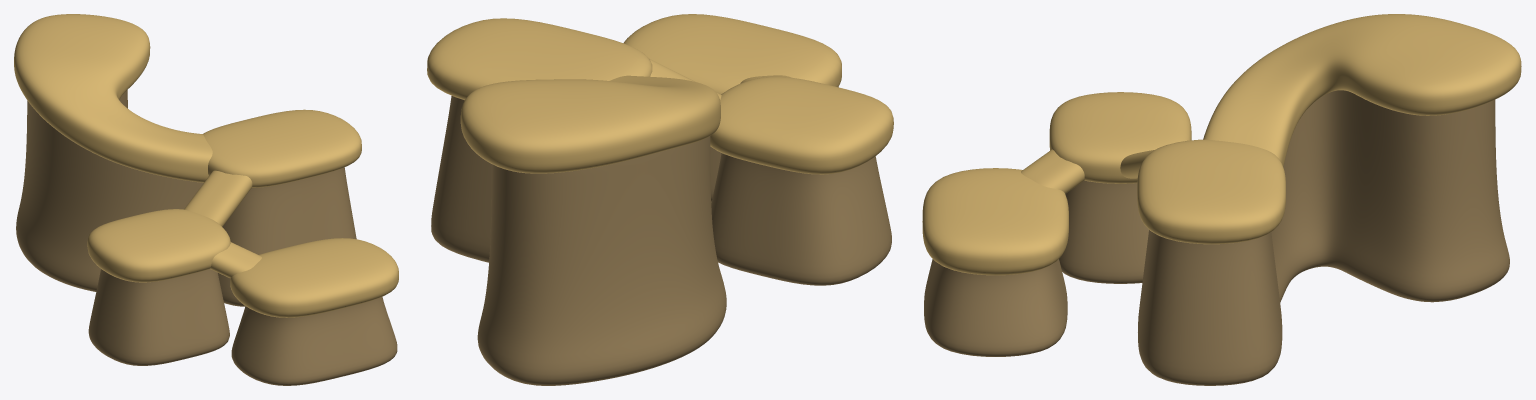
Rendered from Map_Ver2_00.fbx.
The picture shows the model from 3 angles, left to right: view 1: azimuth 30°, elevation 25°; view 2: azimuth 150°, elevation 25°; view 3: azimuth 270°, elevation 25°; orthographic projection. The views are drawn at different scales.
Parts seen in each view (by area): view 1: Map_land_1_Field_Top, Map_land_1_Field_BT, Map_land_3_Butter_BT, Map_land_04_Pan_BT, Map_land_04_Pan_Top, Map_land_2_Cutter_Top, Map_land_2_Cutter_BT, Map_land_3_Butter_Top, Map_land_02_3_Bridge, Map_land_03_4_Bridge; view 2: Map_land_1_Field_BT, Map_land_1_Field_Top, Map_land_3_Butter_BT, Map_land_3_Butter_Top, Map_land_2_Cutter_Top, Map_land_04_Pan_Top, Map_land_2_Cutter_BT, Map_land_02_3_Bridge; view 3: Map_land_1_Field_BT, Map_land_1_Field_Top, Map_land_2_Cutter_BT, Map_land_2_Cutter_Top, Map_land_04_Pan_Top, Map_land_04_Pan_BT, Map_land_3_Butter_Top, Map_land_3_Butter_BT, Map_land_03_4_Bridge, Map_land_02_3_Bridge.
Boxes of the visible parts, left/top/right/bottom form: Map_land_1_Field_Top: left=14, top=14, right=212, bottom=182; Map_land_1_Field_BT: left=16, top=90, right=203, bottom=291; Map_land_3_Butter_BT: left=88, top=269, right=229, bottom=365; Map_land_04_Pan_BT: left=231, top=296, right=397, bottom=385; Map_land_04_Pan_Top: left=230, top=238, right=398, bottom=317; Map_land_2_Cutter_Top: left=203, top=109, right=361, bottom=187; Map_land_2_Cutter_BT: left=218, top=167, right=356, bottom=306; Map_land_3_Butter_Top: left=87, top=209, right=230, bottom=282; Map_land_02_3_Bridge: left=184, top=170, right=252, bottom=226; Map_land_03_4_Bridge: left=210, top=242, right=261, bottom=278; Map_land_1_Field_BT: left=477, top=136, right=726, bottom=385; Map_land_1_Field_Top: left=460, top=75, right=720, bottom=173; Map_land_3_Butter_BT: left=711, top=153, right=891, bottom=285; Map_land_3_Butter_Top: left=710, top=76, right=893, bottom=174; Map_land_2_Cutter_Top: left=427, top=18, right=652, bottom=100; Map_land_04_Pan_Top: left=623, top=14, right=841, bottom=94; Map_land_2_Cutter_BT: left=431, top=96, right=491, bottom=262; Map_land_02_3_Bridge: left=649, top=59, right=721, bottom=99; Map_land_1_Field_BT: left=1271, top=90, right=1509, bottom=302; Map_land_1_Field_Top: left=1203, top=14, right=1521, bottom=166; Map_land_2_Cutter_BT: left=1138, top=230, right=1282, bottom=385; Map_land_2_Cutter_Top: left=1137, top=139, right=1285, bottom=244; Map_land_04_Pan_Top: left=922, top=168, right=1068, bottom=275; Map_land_04_Pan_BT: left=924, top=259, right=1067, bottom=356; Map_land_3_Butter_Top: left=1049, top=92, right=1191, bottom=183; Map_land_3_Butter_BT: left=1059, top=180, right=1148, bottom=283; Map_land_03_4_Bridge: left=1021, top=149, right=1084, bottom=193; Map_land_02_3_Bridge: left=1120, top=150, right=1154, bottom=178.
Bounding box in the file's own units: 55.95 × 37.46 × 83.5.
